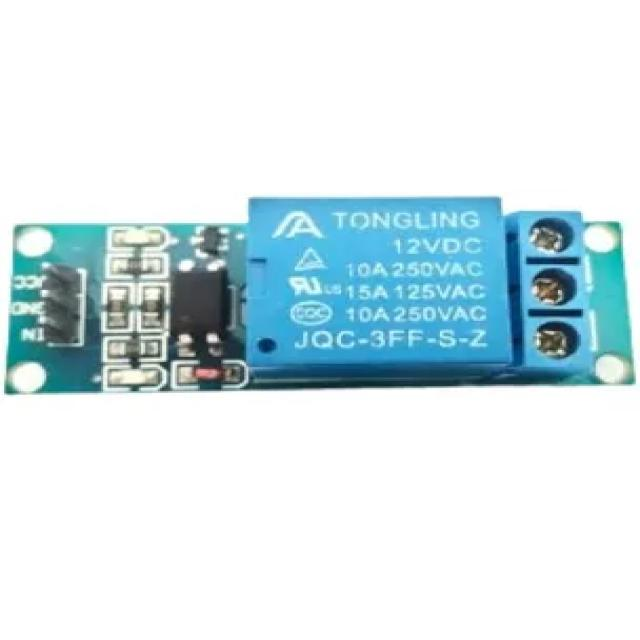Relay: (245, 189, 504, 388), (518, 196, 598, 385)
